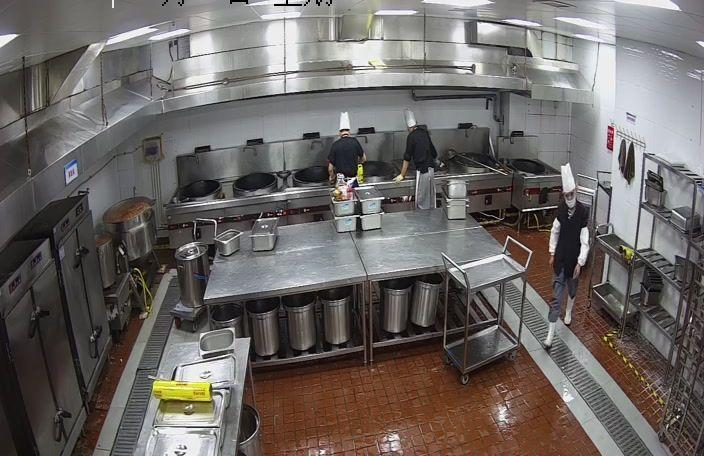mask: (566, 194, 578, 209)
